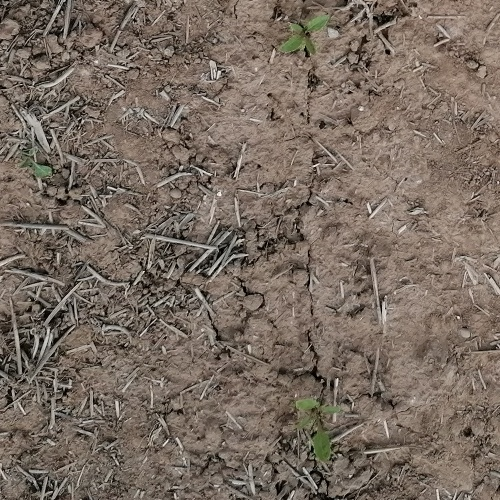beet: (295, 400, 341, 463), (280, 16, 330, 54)
